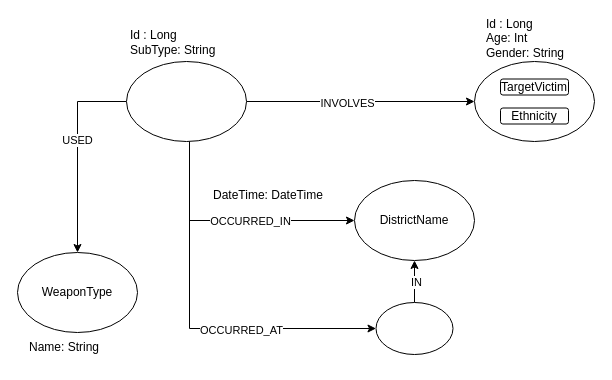
Image size: 612x380. Some labels were removed from this diagram. The centre of each missing label's shape, as x and y in pixels:
"CrimeType" goes at pixel 186 101.
"Street" goes at pixel 414 328.
